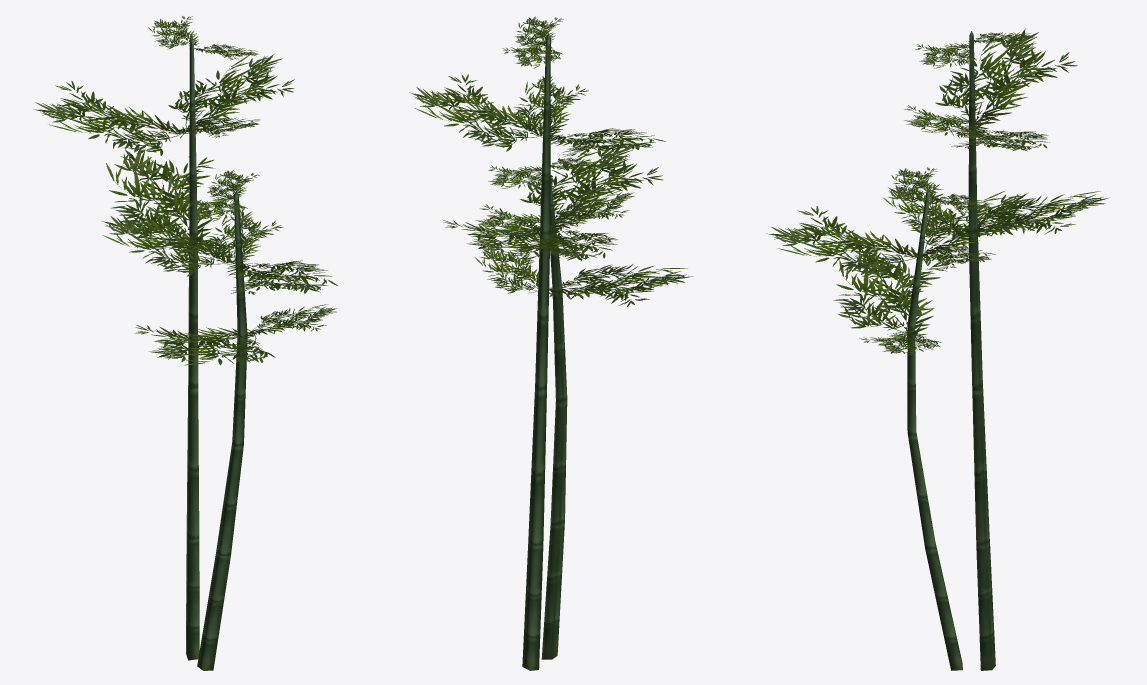
3 renders of one model, left to right at view 1: azimuth 30°, elevation 25°; view 2: azimuth 150°, elevation 25°; view 3: azimuth 270°, elevation 25°, orthographic.
Visible parts, largest first — view 1: polySurface2758; view 2: polySurface2758; view 3: polySurface2758.
Part boxes in pixels (x1,y1,x2,y2): polySurface2758: [33, 16, 337, 670]; polySurface2758: [409, 16, 693, 670]; polySurface2758: [767, 28, 1109, 670].
Size of the model in its own units: 11.09 by 24.2 by 13.41.
1 material, 1 textured.
